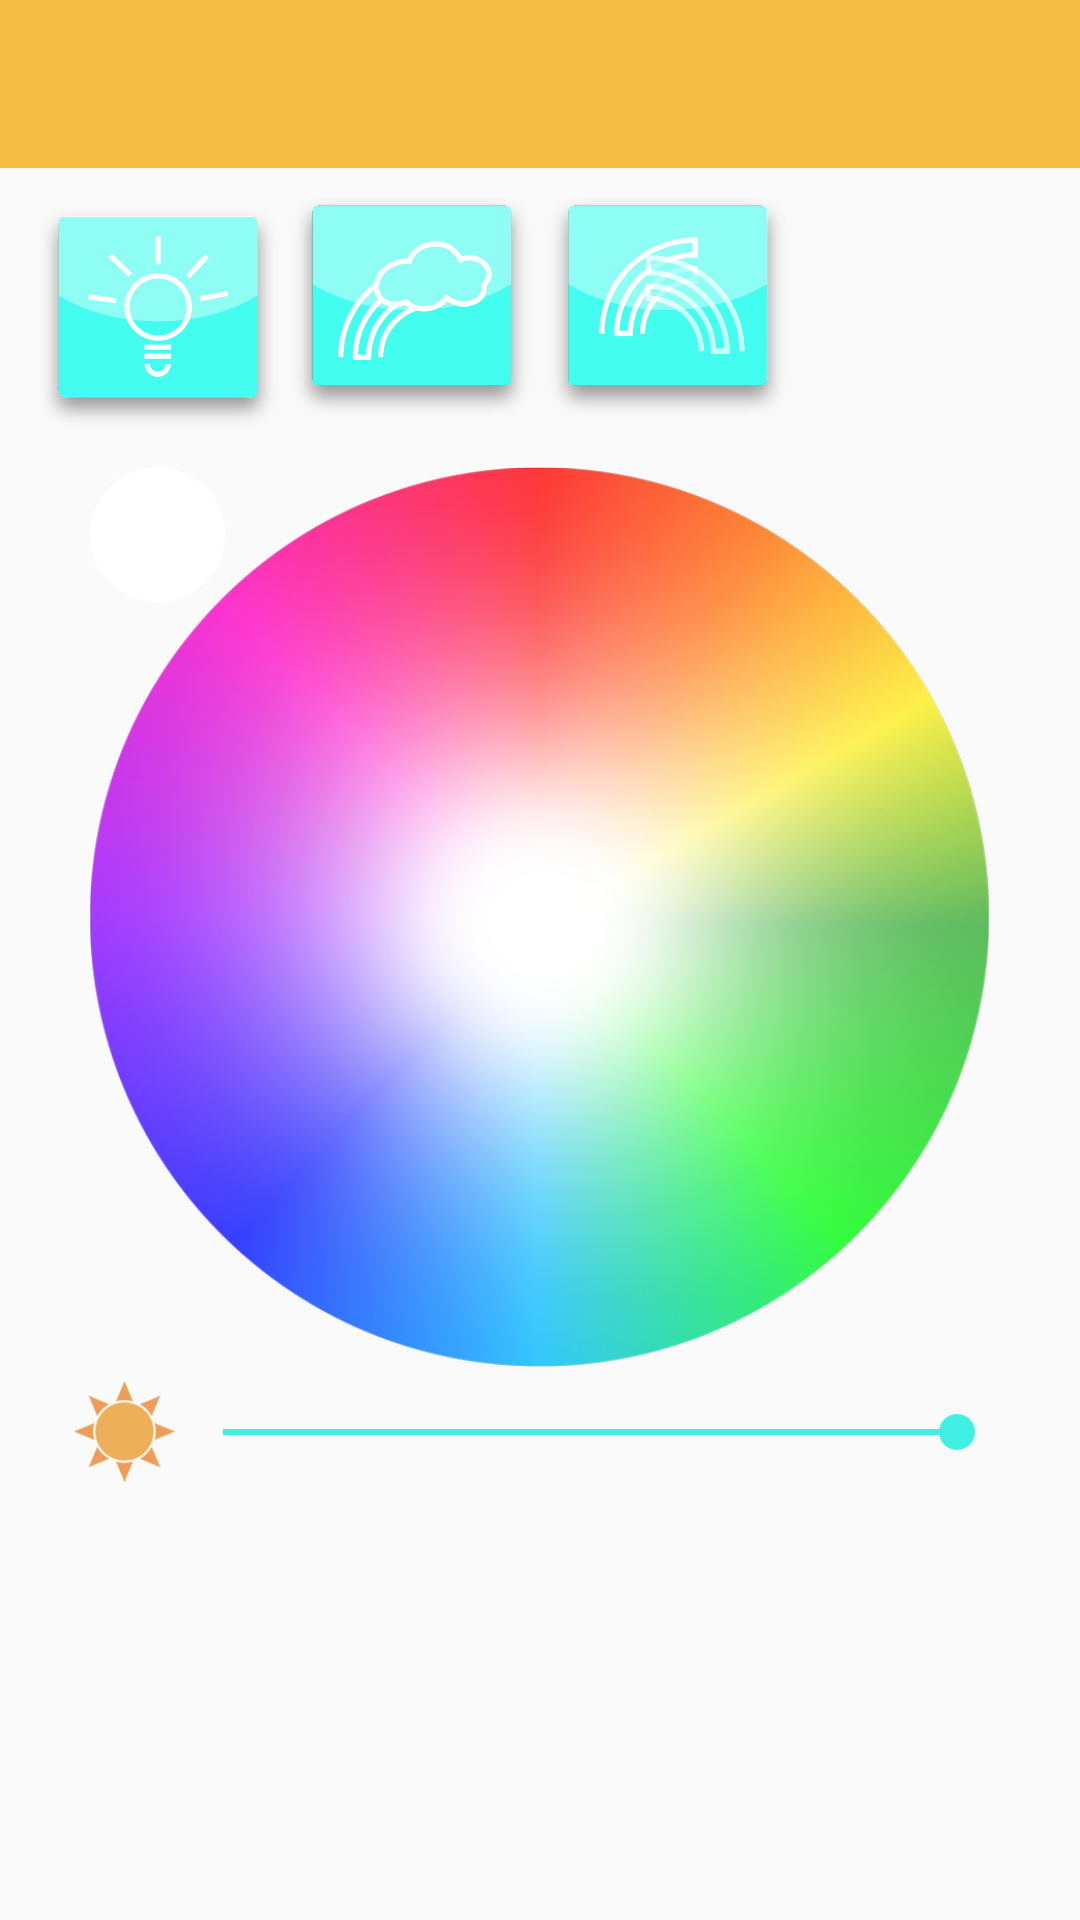

Screen size 1080×1920. Icon name, then its box in pixels as rect(x1, y1, x2, y2):
brightness: rect(75, 1382, 175, 1482)
